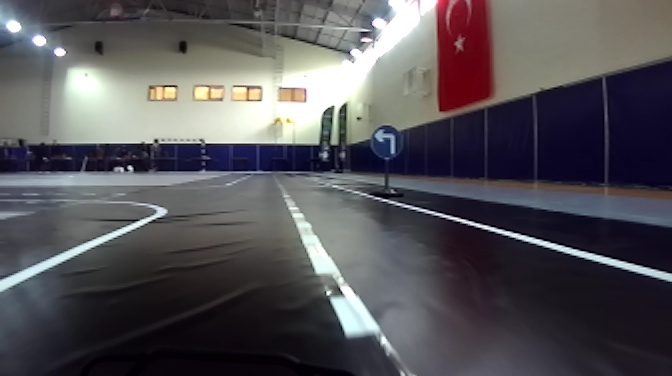sola_donus: (372, 122, 404, 157)
